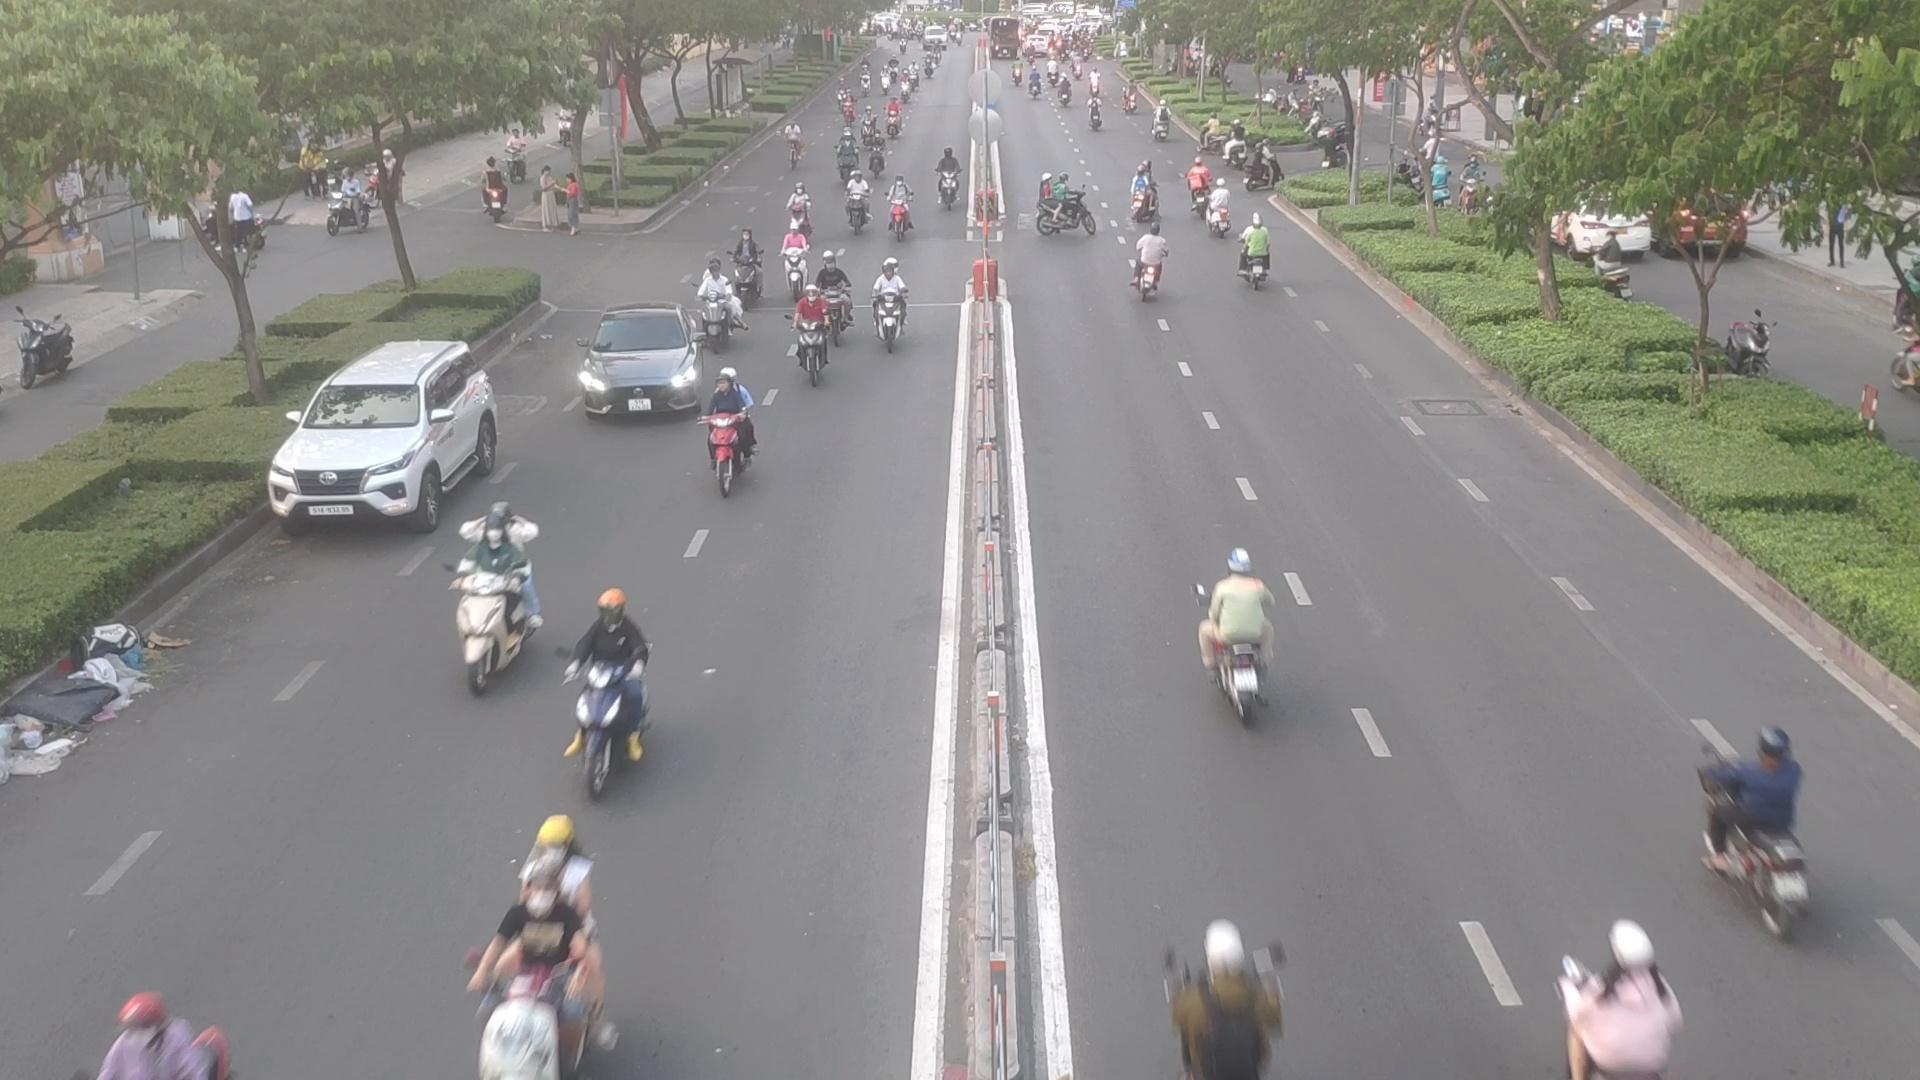car: (272, 343, 516, 531), (571, 306, 709, 418)
motorbike: (459, 890, 604, 1077), (1691, 720, 1811, 938), (1560, 916, 1693, 1077), (563, 589, 669, 783), (440, 500, 537, 688), (69, 990, 237, 1080), (1191, 562, 1284, 717), (694, 367, 758, 483), (791, 287, 843, 382), (1033, 173, 1101, 243), (864, 262, 913, 353), (694, 272, 746, 349), (822, 249, 861, 338), (1236, 220, 1280, 287), (1129, 233, 1174, 301), (727, 229, 767, 301), (882, 182, 914, 243), (785, 227, 818, 285), (934, 152, 967, 207), (787, 179, 820, 232), (843, 174, 872, 233), (1133, 165, 1158, 224), (836, 128, 858, 185), (862, 128, 887, 178), (1149, 111, 1178, 142)
